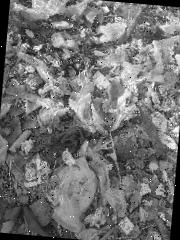general: (22, 152, 53, 189), (85, 202, 109, 228), (123, 74, 141, 96)
plastic: (112, 126, 144, 162), (96, 20, 130, 41), (52, 29, 82, 52)
